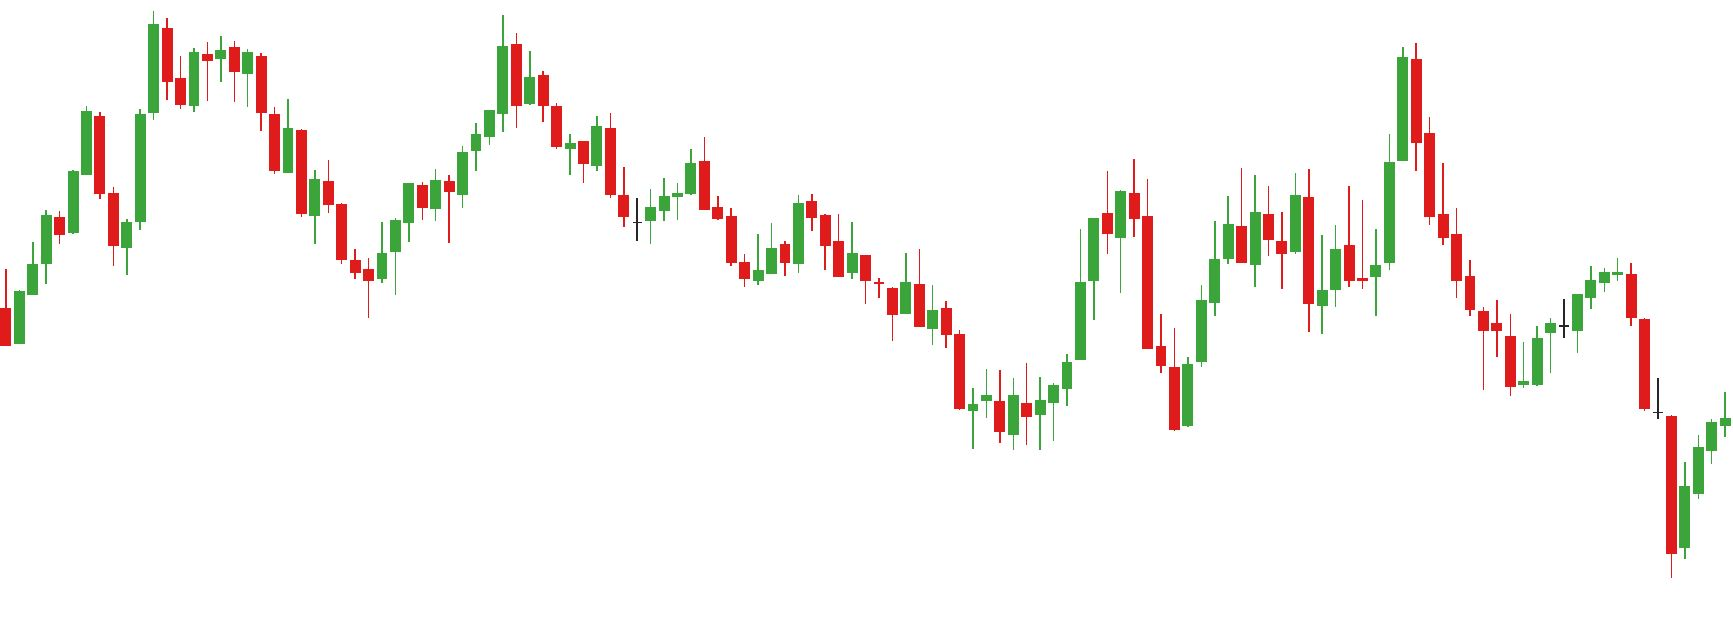sell: (1125, 43, 1437, 283), (216, 18, 522, 175)
